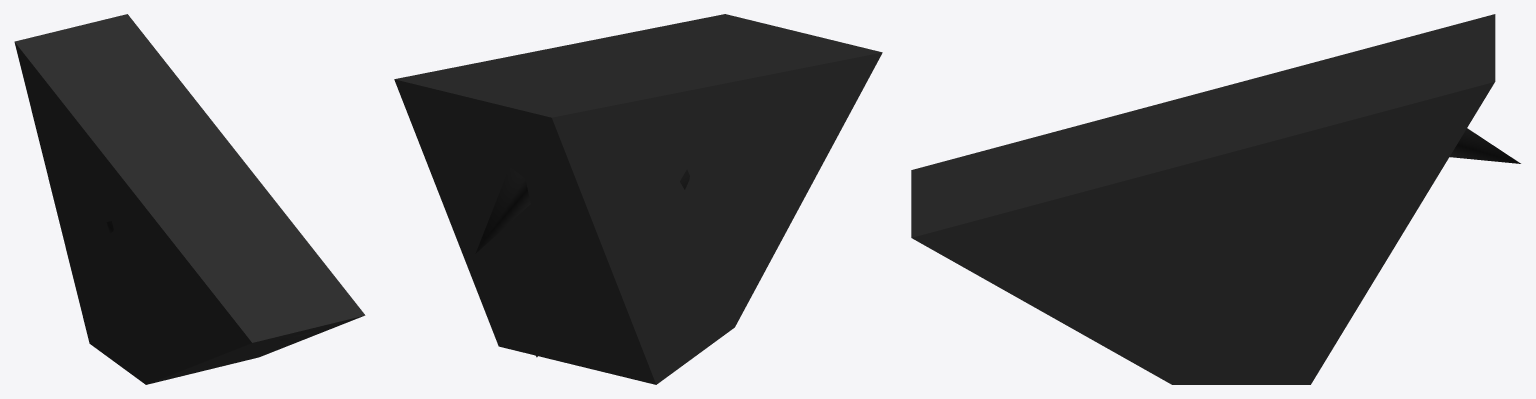
The model's file is crow.glb.
The picture shows the model from 3 angles, left to right: view 1: azimuth 30°, elevation 25°; view 2: azimuth 150°, elevation 25°; view 3: azimuth 270°, elevation 25°; orthographic projection. The views are drawn at different scales.
Parts seen in each view (by area): view 1: crow; view 2: crow; view 3: crow.
Boxes of the visible parts, x1,y1,x2,y2 form: crow: (14, 14, 365, 384); crow: (394, 14, 882, 384); crow: (911, 14, 1520, 384).
Size of the model in its own units: 0.2164 by 0.4487 by 0.8118.
2 materials, 2 textured.
